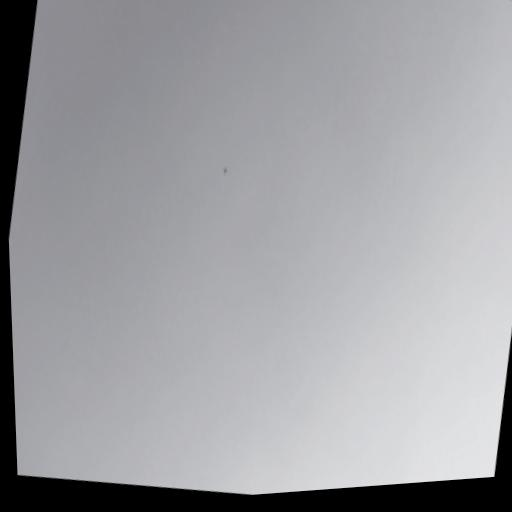drones: (220, 163, 229, 177)
